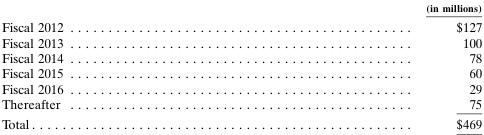table: (0, 1, 481, 131)
table column: (0, 1, 243, 131), (243, 1, 481, 131)
table column header: (0, 1, 481, 16)
table row: (0, 16, 481, 34), (0, 95, 481, 113), (0, 113, 481, 131), (0, 49, 481, 65), (0, 1, 481, 16), (0, 34, 481, 49), (0, 65, 481, 80), (0, 80, 481, 95)
